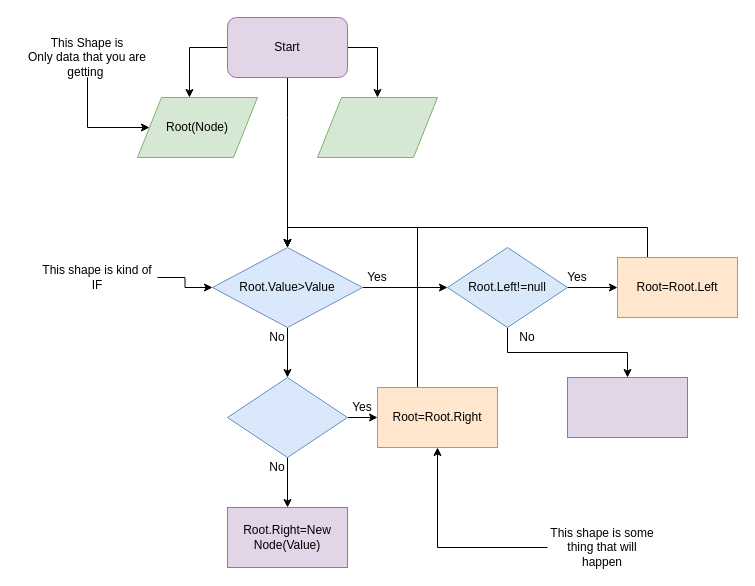
The diagram is 755 pixels wide and 586 high, and some of its shapes have lost their labels. The shapes that lost their labels are listed below. From the top down, each one's box as (x1, y1, x2, y2) in pixels, then its label:
(316, 96, 438, 158): Value
(226, 376, 348, 458): Root.Right!=null
(566, 376, 688, 438): Root.Left=New Node(Value)
